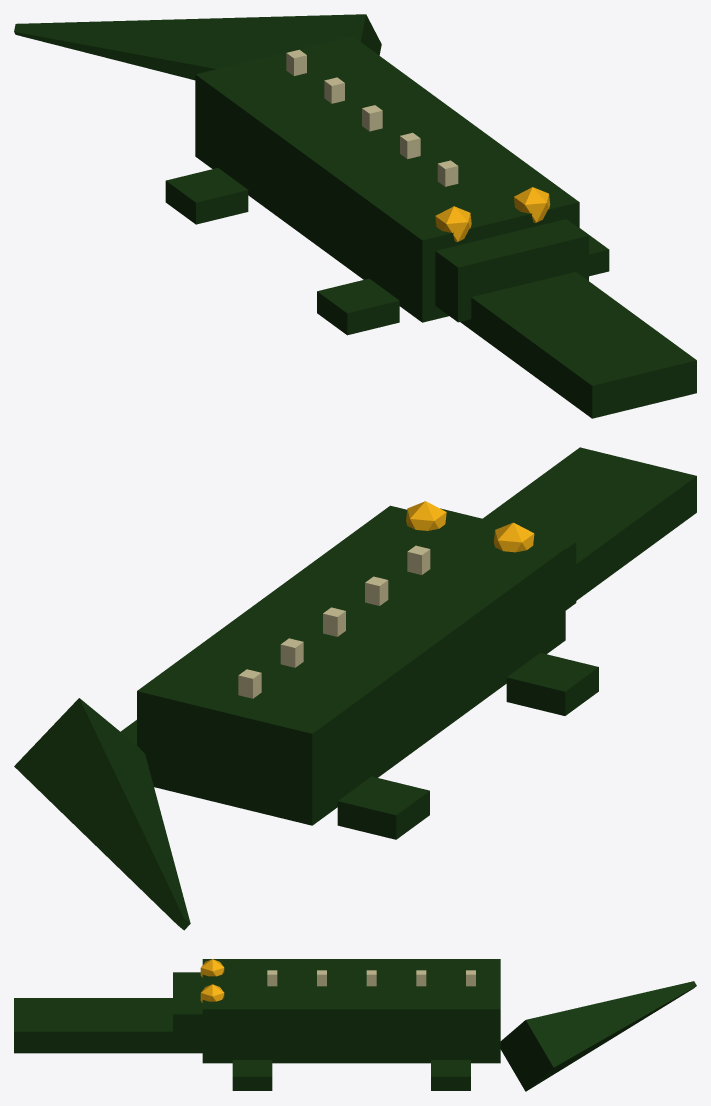
The model's file is crocodile.obj.
The picture shows the model from 3 angles, top to bottom: view 1: azimuth 30°, elevation 25°; view 2: azimuth 150°, elevation 25°; view 3: azimuth 270°, elevation 25°; orthographic projection. The views are drawn at different scales.
Parts seen in each view (by area): view 1: crocodile; view 2: crocodile; view 3: crocodile.
Part boxes in pixels (bbox=[...]): crocodile: bbox=[14, 14, 696, 418]; crocodile: bbox=[14, 447, 696, 930]; crocodile: bbox=[14, 959, 696, 1091].
Bounding box in the file's own units: 1.07 × 0.47 × 3.44.
